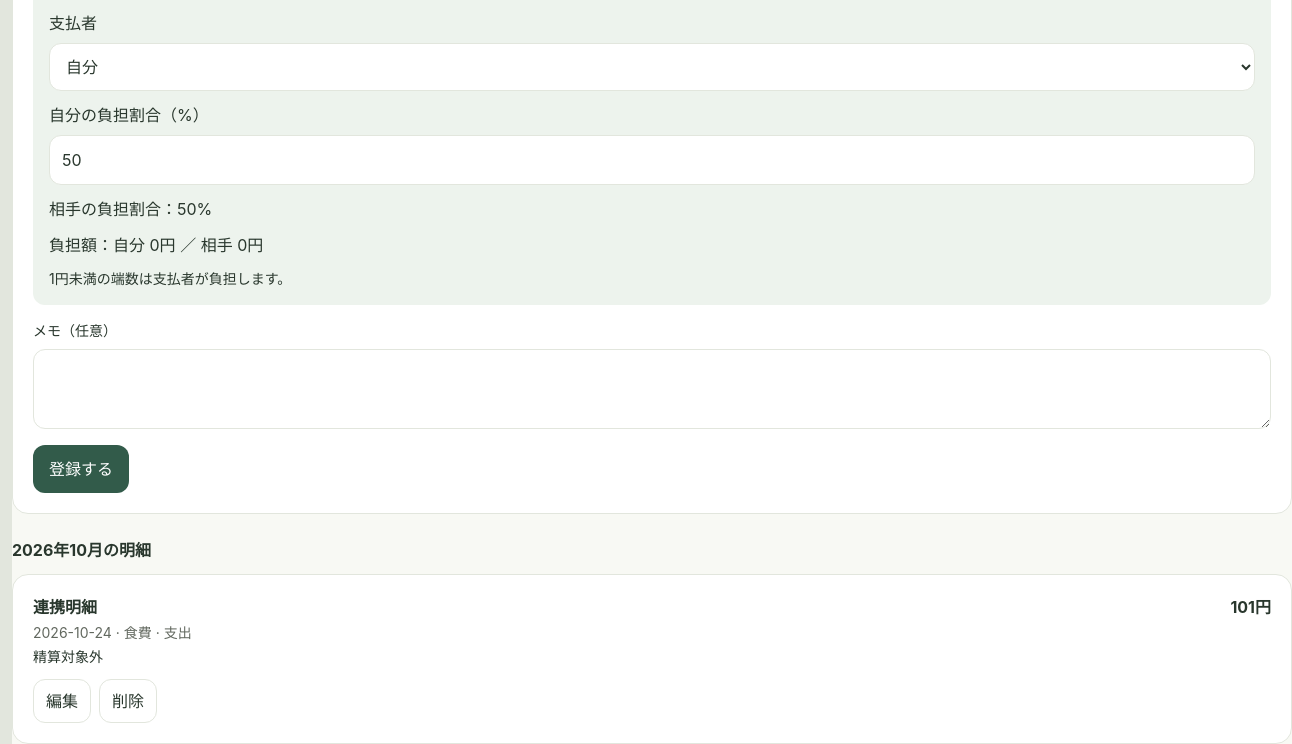
keeps deletion errors inside confirmation, locks duplicate clicks and allows retry
(page scrolled)
Click the button "削除".
click(128, 701)  # box [99,679,157,723]
(page scrolled)
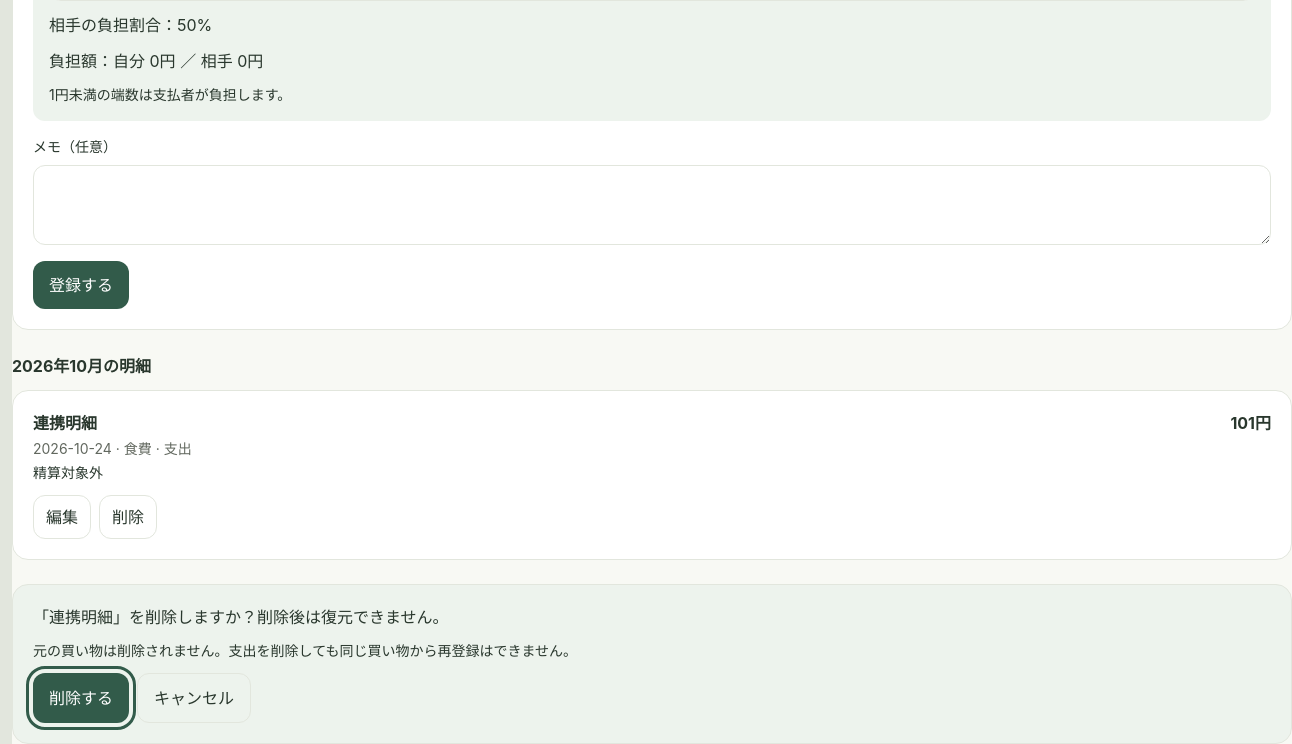
Now the element named "削除の確認" shows "元の買い物は削除されません", box [33,642,577,659]
Click the button "削除する".
click(81, 698)  # box [33,673,129,723]
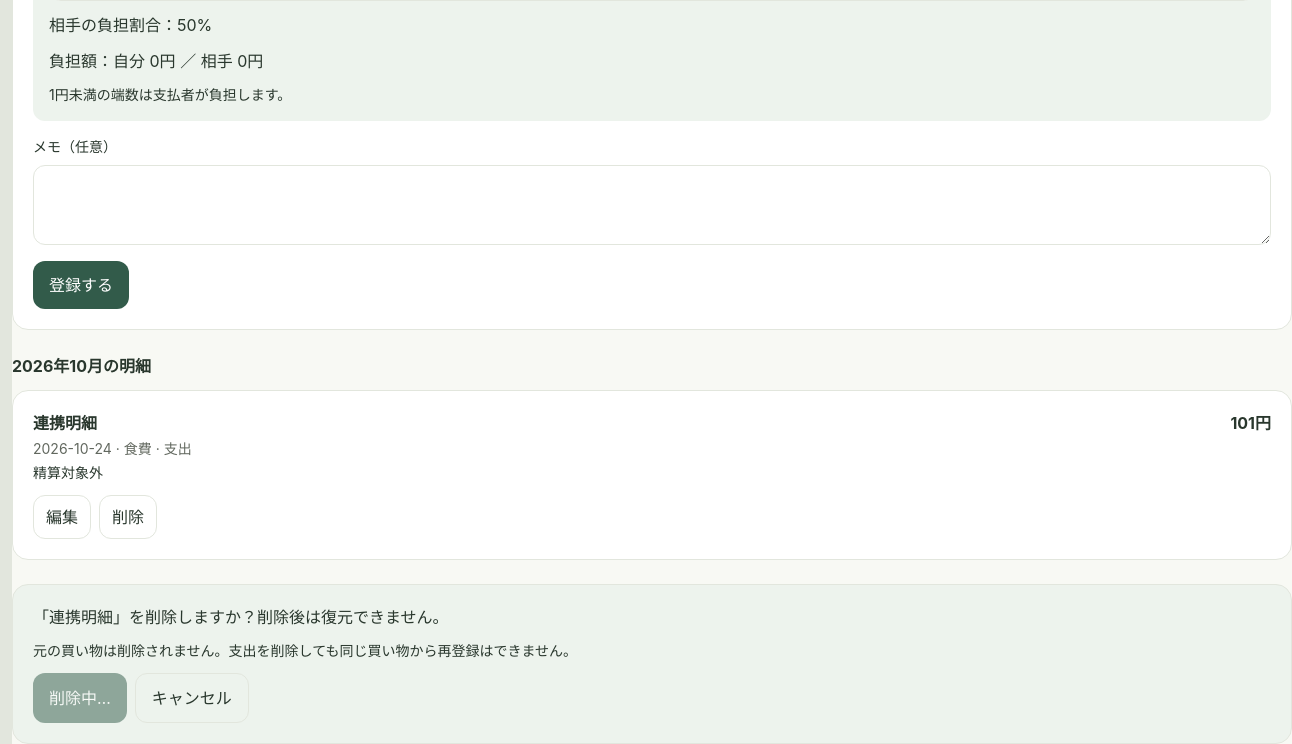
Click the button named "削除する".
click(80, 698)  # box [33,673,127,723]
(page scrolled)
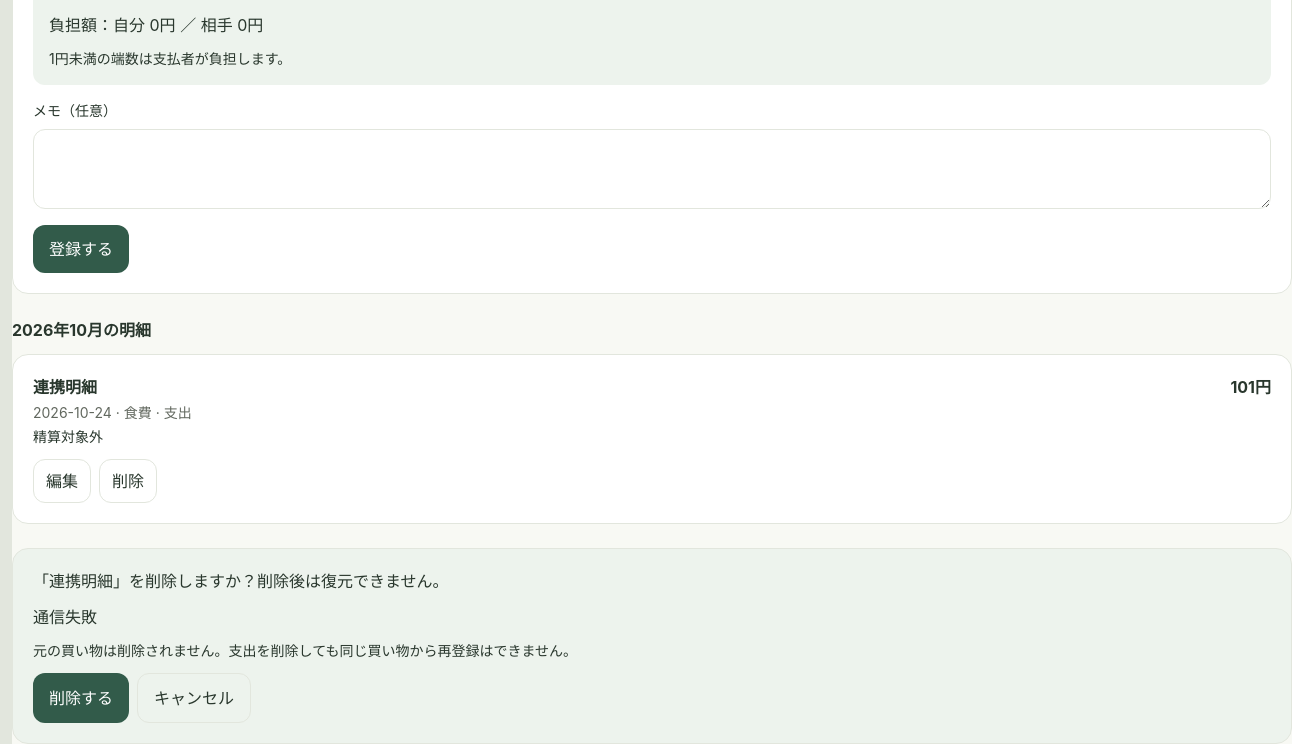
Expected: the list item shows "連携明細", [33,377,97,397]
Now the message reads "通信失敗", box [33,607,97,627]
Click the button "削除する".
click(81, 698)  # box [33,673,129,723]
(page scrolled)
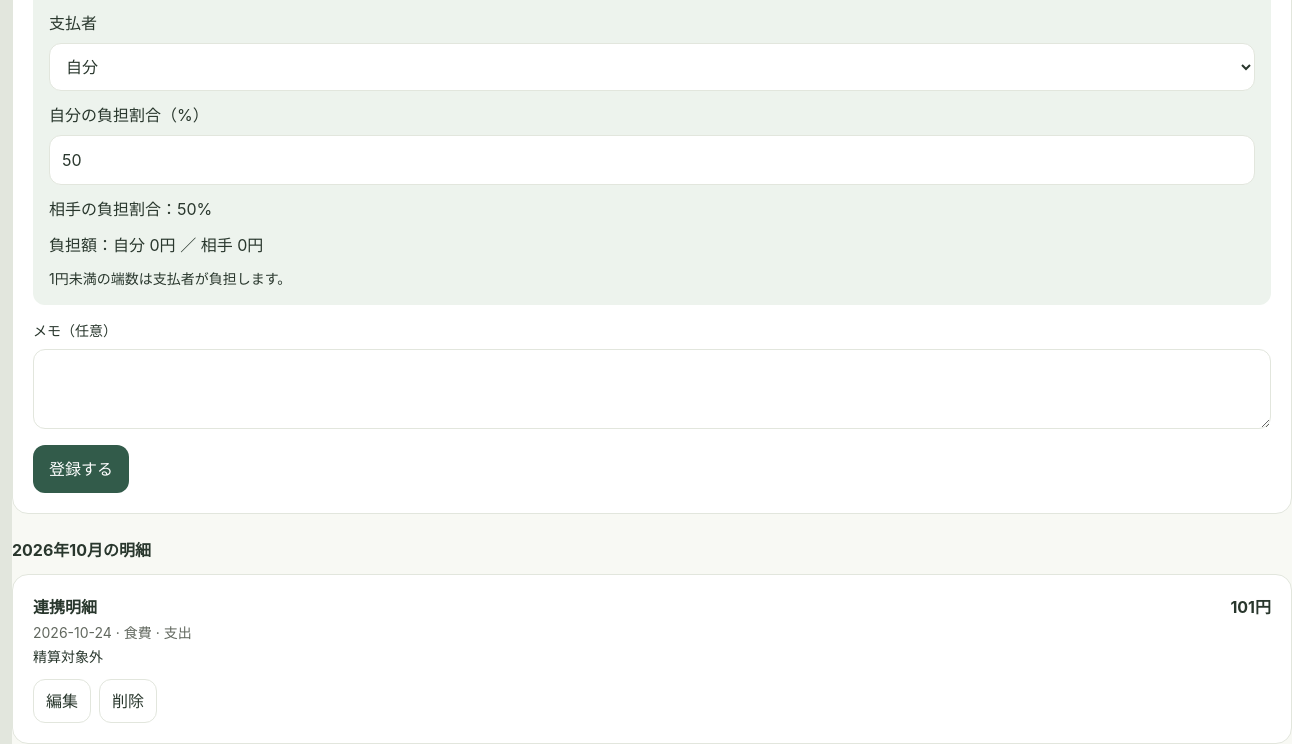
Now the element "削除の確認" is gone
